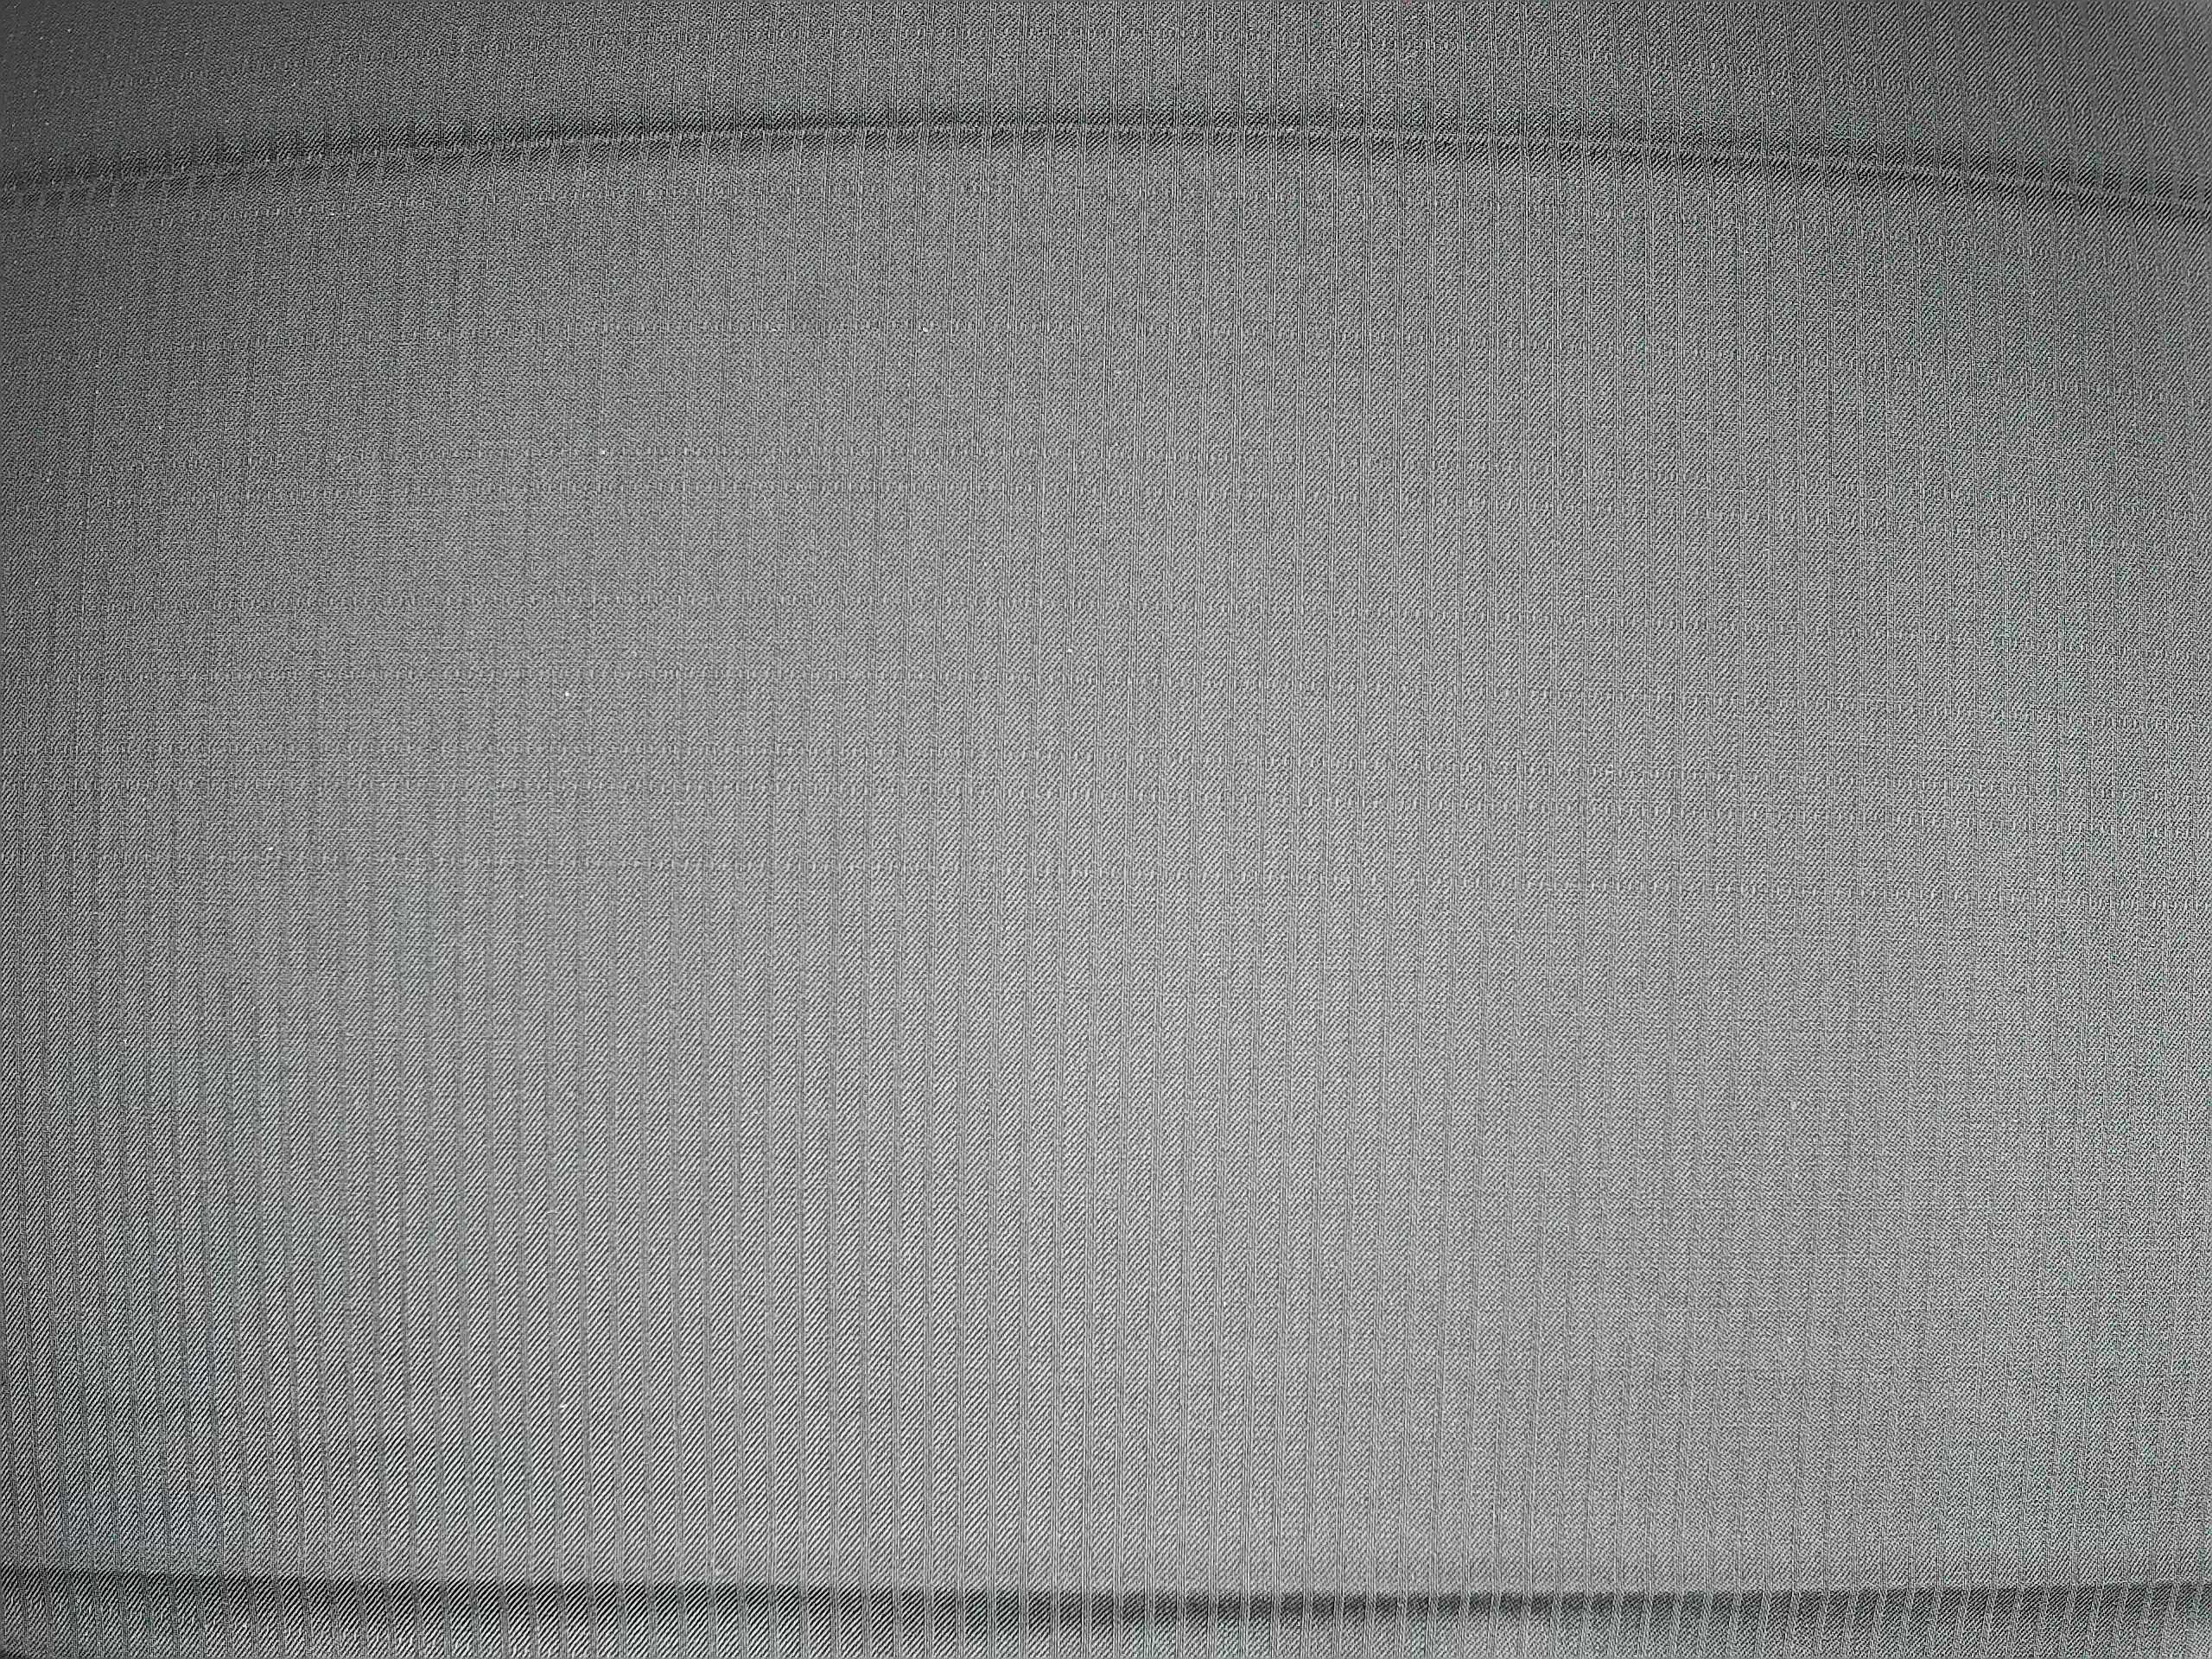others: (5, 14, 2203, 927)
